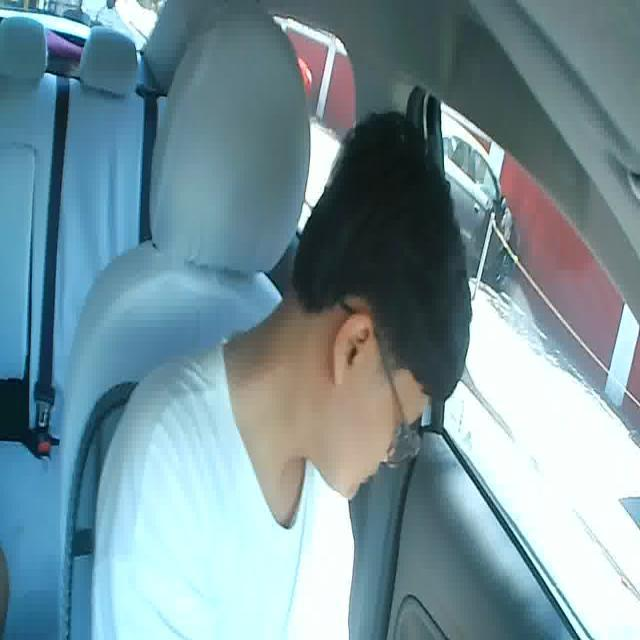Inattentive: (288, 150, 472, 505)
